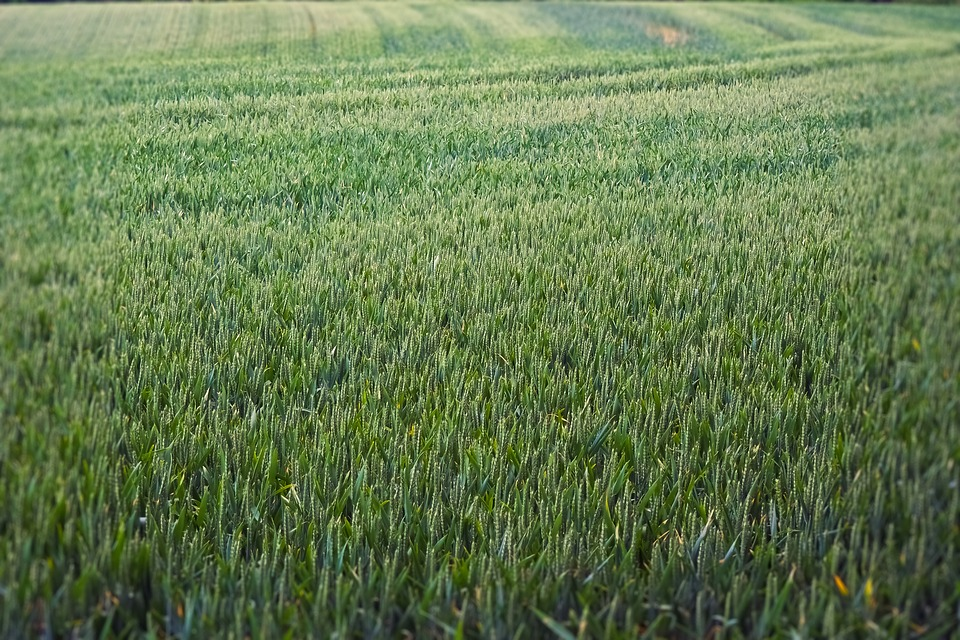Wheat: (161, 355, 768, 589)
